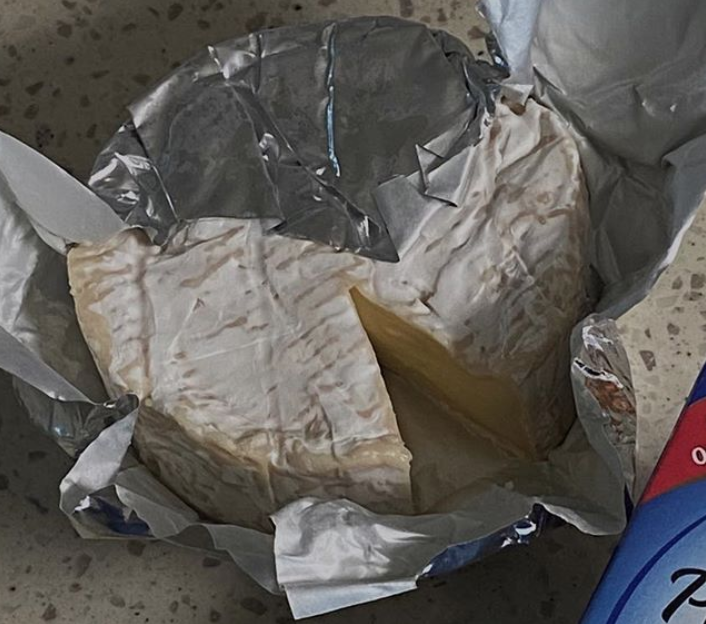camembert: (49, 66, 589, 540)
